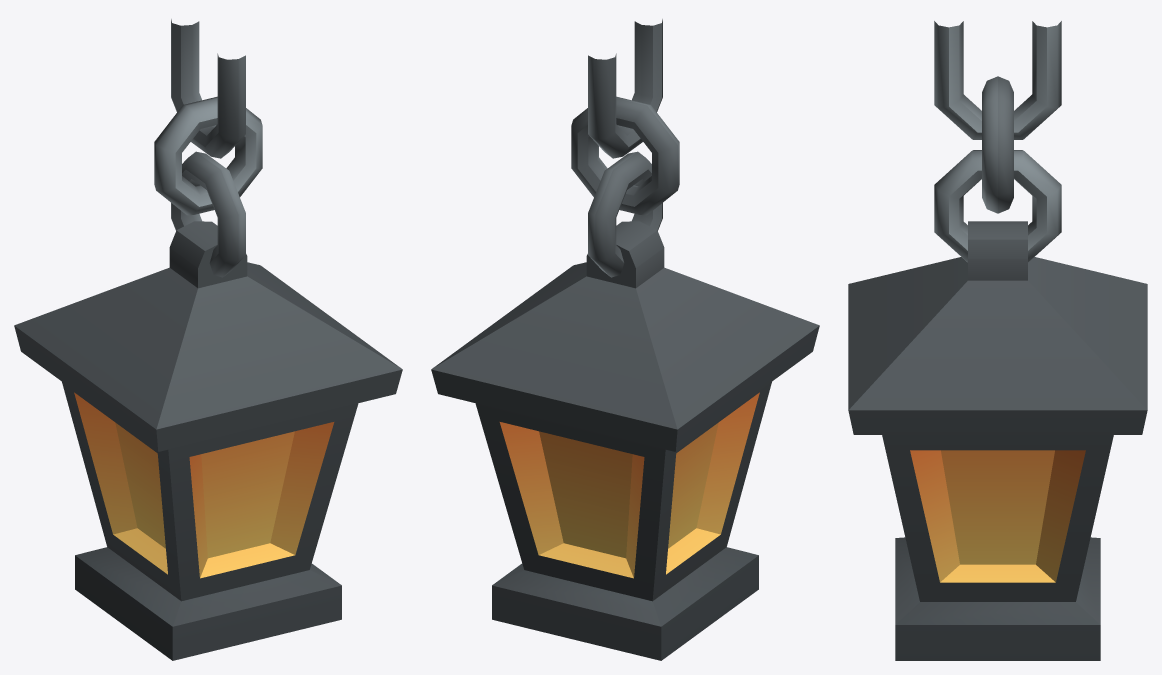
Rendered from lantern_hanging.glb.
3 renders of one model, left to right at view 1: azimuth 30°, elevation 25°; view 2: azimuth 150°, elevation 25°; view 3: azimuth 270°, elevation 25°, orthographic. The views are drawn at different scales.
Visible parts, largest first — view 1: lantern_hanging; view 2: lantern_hanging; view 3: lantern_hanging.
Boxes of the visible parts, box(x1,y1,x2,y2) form: lantern_hanging: box(14, 19, 402, 660); lantern_hanging: box(431, 19, 819, 660); lantern_hanging: box(848, 21, 1147, 660).
Size of the model in its own units: 0.64 by 1.41 by 0.64.
Materials: 1 (1 with a texture image).
